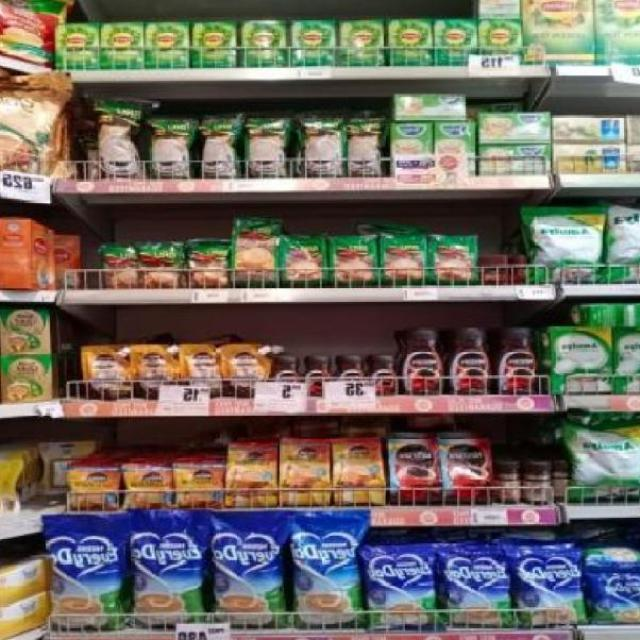Coffee: (441, 439, 493, 506), (280, 439, 331, 506), (335, 438, 385, 504), (390, 440, 441, 503), (226, 444, 276, 508), (448, 330, 495, 397), (401, 330, 449, 394), (496, 329, 540, 395), (174, 462, 224, 509), (70, 467, 120, 508), (128, 465, 172, 507), (301, 356, 335, 394), (366, 356, 399, 394)
